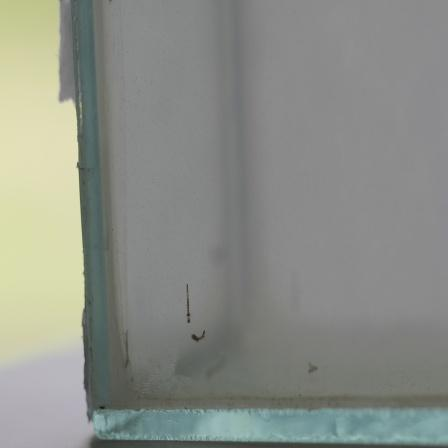Jentik-Nyamuk: (183, 281, 193, 326), (187, 328, 209, 343)
